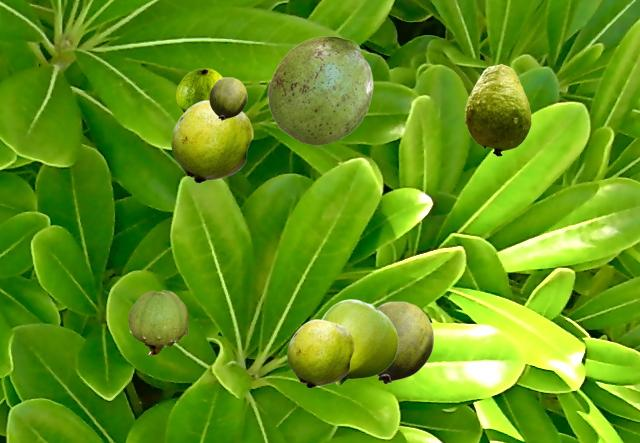guava: (267, 36, 372, 144), (171, 100, 252, 182), (321, 299, 397, 385), (464, 64, 530, 155), (377, 301, 433, 383), (287, 319, 354, 387), (128, 290, 187, 354), (176, 68, 222, 112), (209, 77, 246, 119)
